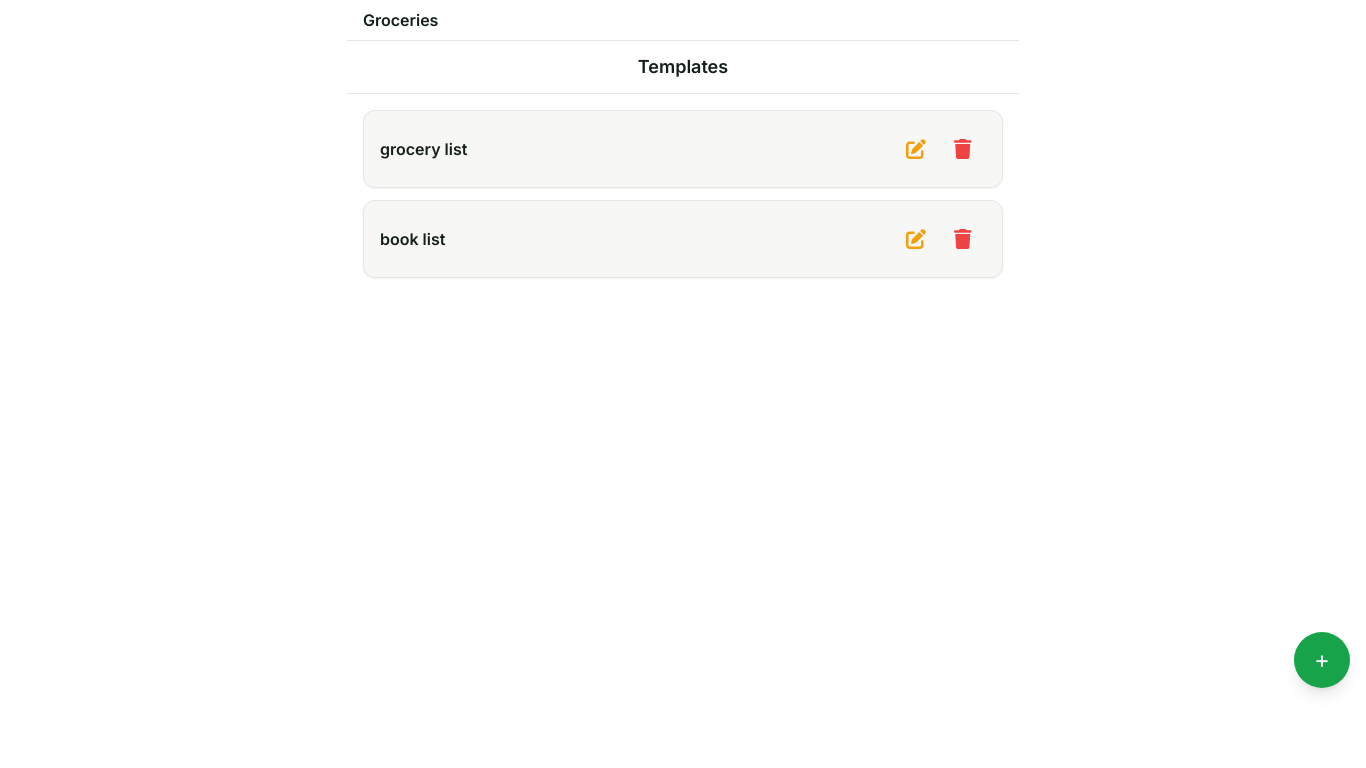
Test: TemplatesContainer › opens edit sheet when an edit button is clicked
Click the button with test id "template-edit" at (916, 149), box [894,127,938,171]
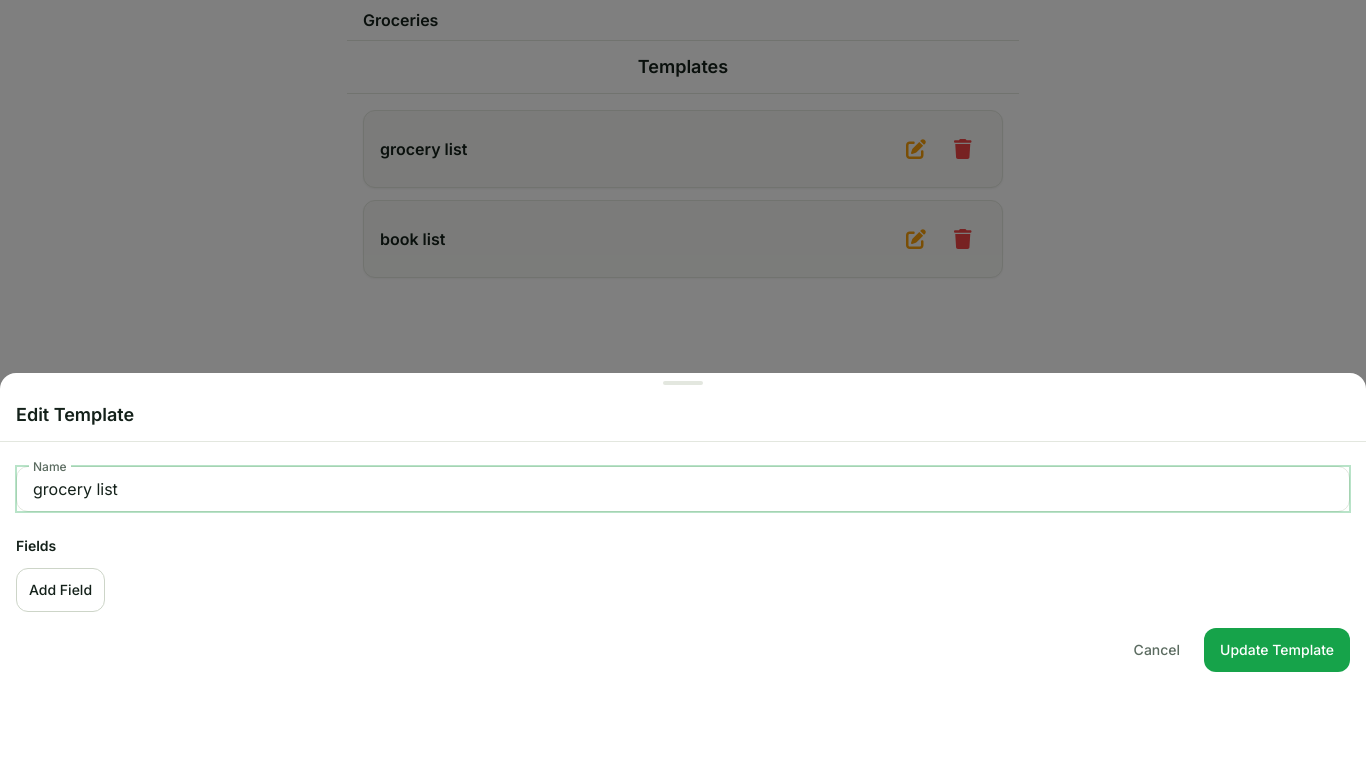
Check: the field with test id "template-name" is shown, box [17,467,1349,511]
